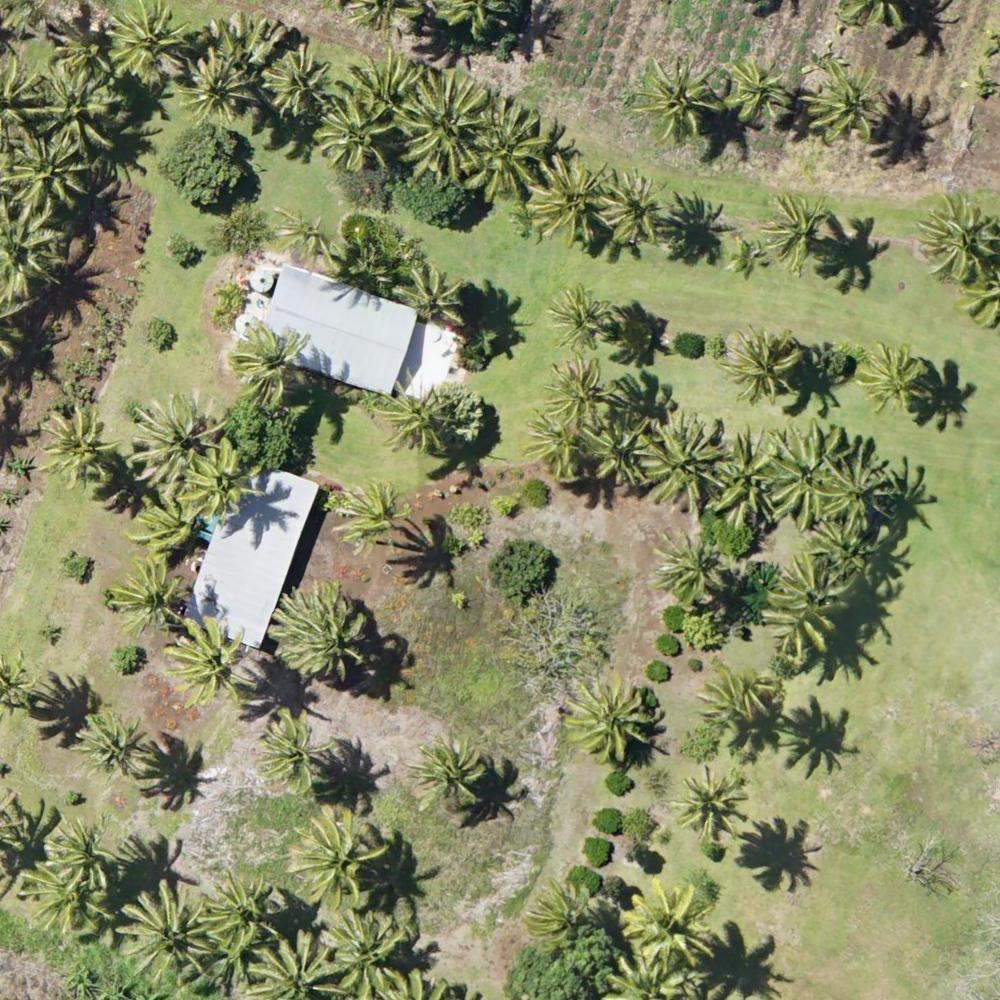not plam: (899, 910, 981, 985), (567, 792, 648, 864), (478, 536, 555, 608), (495, 608, 571, 680), (468, 466, 542, 536), (200, 800, 272, 869), (102, 304, 176, 371), (421, 662, 495, 729), (128, 214, 203, 279), (920, 571, 990, 640), (569, 568, 636, 639), (176, 129, 244, 197), (900, 733, 972, 796), (472, 940, 544, 999), (453, 834, 520, 896), (920, 655, 988, 716), (817, 924, 879, 990), (21, 579, 88, 640), (840, 826, 902, 891), (577, 1, 637, 63), (19, 516, 85, 571), (876, 281, 935, 335)
